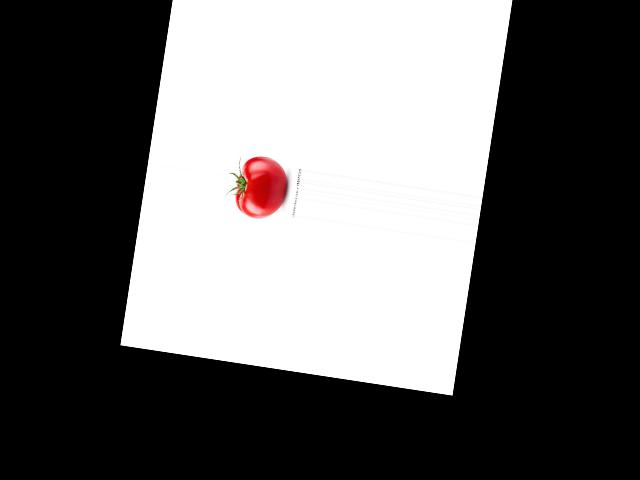tomato: (233, 153, 290, 222)
